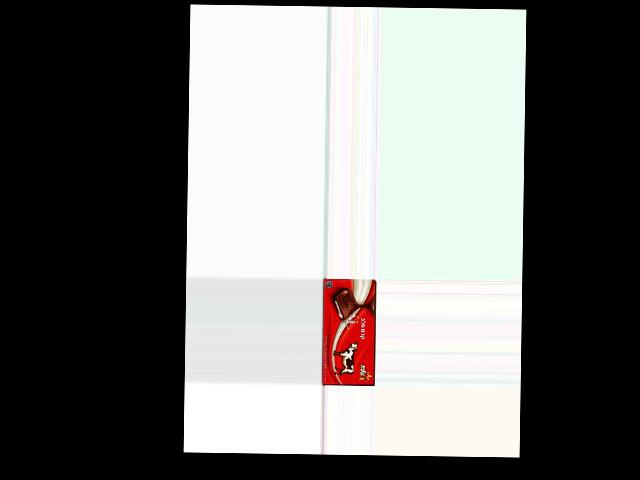chocolate: (321, 278, 376, 388)
